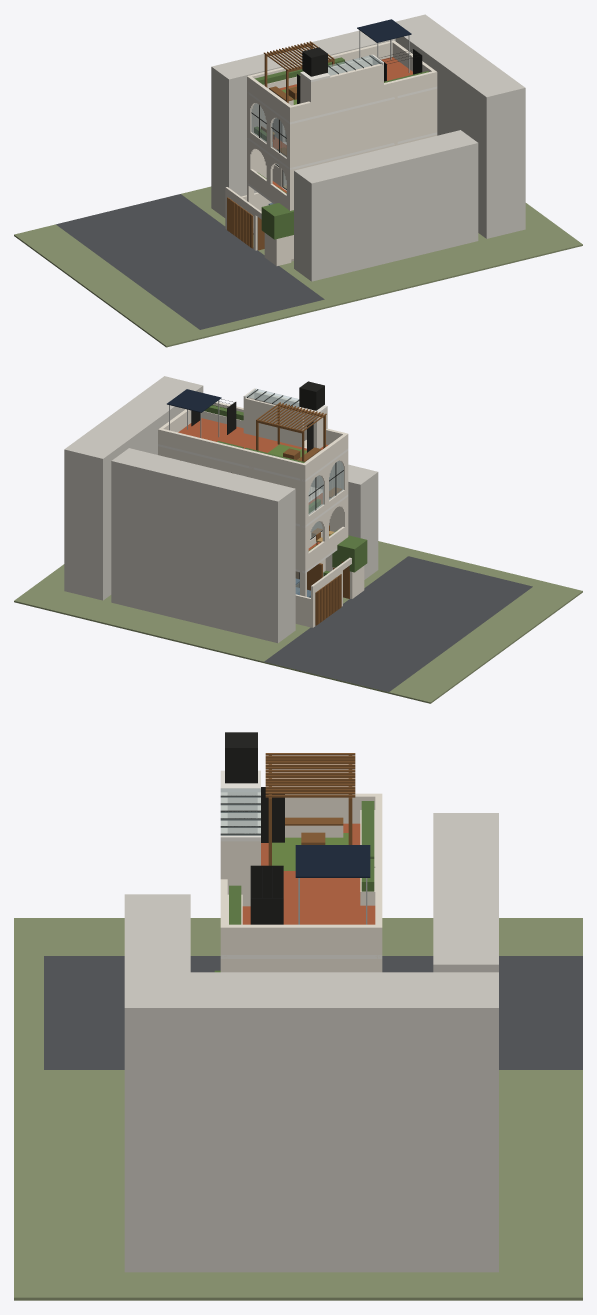
Rendered from chikkalasandra_house.obj.
3 views of the same model, one above another, from view 1: azimuth 30°, elevation 25°; view 2: azimuth 150°, elevation 25°; view 3: azimuth 270°, elevation 25° (orthographic). The views are drawn at different scales.
Visible parts, largest first — view 1: site_neighbours, site_road, site_ground, walls_second, walls_roof, walls_boundary, walls_first, furniture_tree, furniture_solar, furniture_perg, stair_cabin_roof, columns (+5 smaller); view 2: site_neighbours, site_road, site_ground, walls_roof, walls_second, walls_boundary, walls_first, floors_roof, furniture_perg, furniture_tree, furniture_solar, columns (+5 smaller); view 3: site_neighbours, site_ground, site_road, walls_roof, floors_roof, furniture_perg, furniture_solar, stair_cabin_roof, walls_second, furniture_lines, furniture_tank, furniture_rbench (+1 smaller).
Boxes of the visible parts, bbox=[...] form: site_neighbours: bbox=[211, 14, 525, 281]; site_road: bbox=[56, 194, 324, 329]; site_ground: bbox=[14, 186, 582, 347]; walls_second: bbox=[247, 88, 437, 167]; walls_roof: bbox=[247, 40, 437, 122]; walls_boundary: bbox=[225, 187, 291, 265]; walls_first: bbox=[247, 134, 437, 210]; furniture_tree: bbox=[261, 203, 293, 239]; furniture_solar: bbox=[357, 19, 411, 72]; furniture_perg: bbox=[263, 41, 334, 72]; stair_cabin_roof: bbox=[300, 54, 383, 82]; columns: bbox=[247, 89, 437, 210]; site_neighbours: bbox=[64, 376, 378, 643]; site_road: bbox=[264, 556, 532, 691]; site_ground: bbox=[14, 541, 582, 703]; walls_roof: bbox=[158, 391, 348, 479]; walls_second: bbox=[158, 446, 348, 524]; walls_boundary: bbox=[295, 557, 364, 627]; walls_first: bbox=[295, 496, 348, 571]; floors_roof: bbox=[178, 418, 328, 459]; furniture_perg: bbox=[256, 402, 326, 433]; furniture_tree: bbox=[332, 535, 367, 572]; furniture_solar: bbox=[167, 389, 221, 437]; columns: bbox=[158, 447, 348, 572]; site_neighbours: bbox=[124, 813, 498, 1272]; site_ground: bbox=[14, 918, 582, 1300]; site_road: bbox=[44, 956, 582, 1069]; walls_roof: bbox=[220, 787, 382, 954]; floors_roof: bbox=[242, 823, 375, 924]; furniture_perg: bbox=[265, 753, 355, 802]; furniture_solar: bbox=[295, 845, 370, 924]; stair_cabin_roof: bbox=[220, 770, 260, 841]; walls_second: bbox=[221, 959, 382, 972]; furniture_lines: bbox=[250, 865, 283, 924]; furniture_tank: bbox=[225, 732, 257, 783]; furniture_rbench: bbox=[285, 817, 343, 837].
Size of the model in its own units: 30 by 13.7 by 19.
